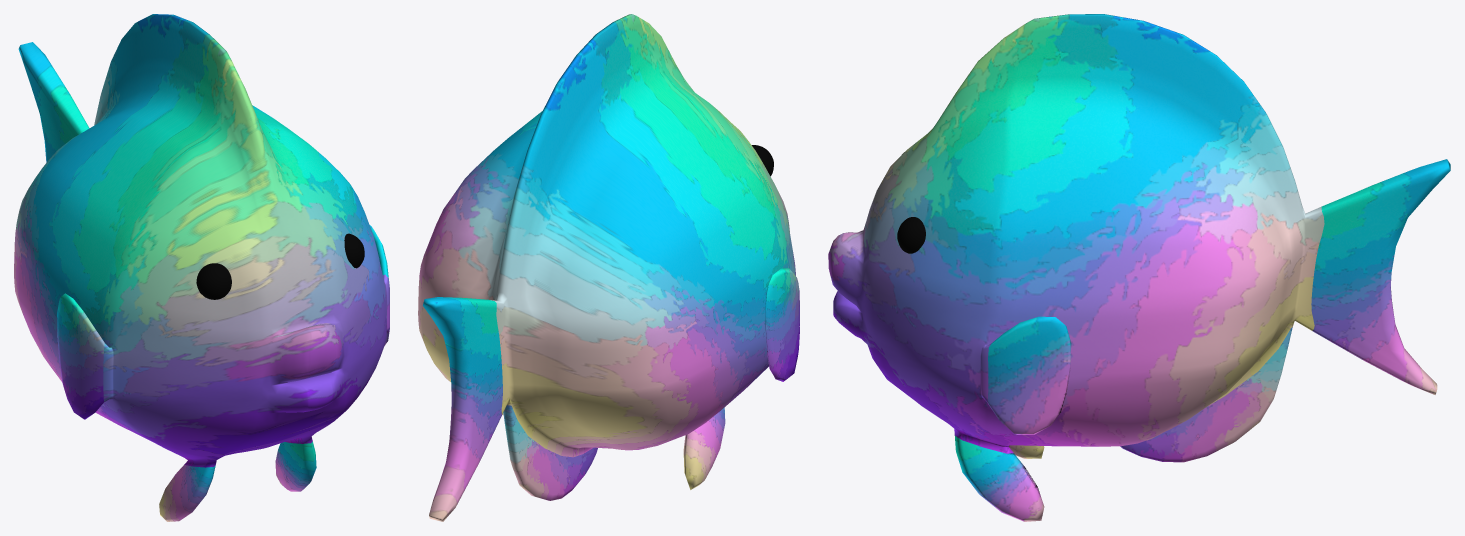
The model's file is LORO.fbx.
The picture shows the model from 3 angles, left to right: view 1: azimuth 30°, elevation 25°; view 2: azimuth 150°, elevation 25°; view 3: azimuth 270°, elevation 25°; orthographic projection. The views are drawn at different scales.
Parts seen in each view (by area): view 1: Pez_Loro, pSphere1, pSphere2; view 2: Pez_Loro; view 3: Pez_Loro, pSphere2.
Boxes of the visible parts, x1=… form: Pez_Loro: x1=14, y1=14, x2=389, y2=521; pSphere1: x1=196, y1=263, x2=231, y2=299; pSphere2: x1=344, y1=233, x2=364, y2=268; Pez_Loro: x1=418, y1=14, x2=799, y2=521; Pez_Loro: x1=828, y1=14, x2=1450, y2=521; pSphere2: x1=897, y1=217, x2=925, y2=253.
Size of the model in its own units: 2 by 2.86 by 3.39.
